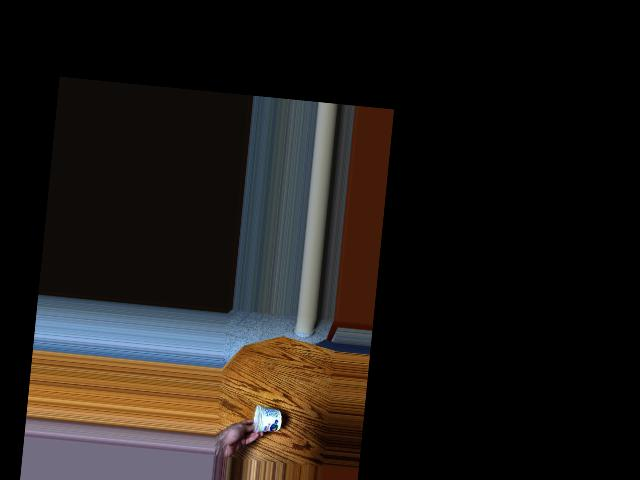cotage: (250, 398, 286, 433)
